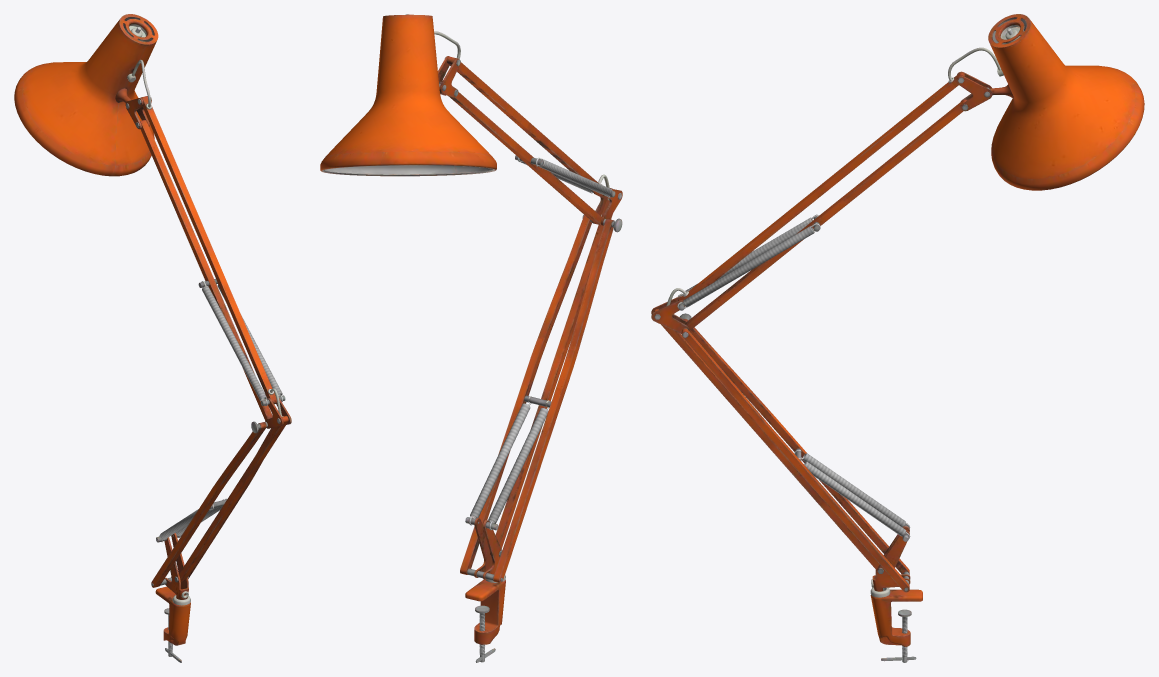
The model's file is desk_lamp_arm_01.glb.
The picture shows the model from 3 angles, left to right: view 1: azimuth 30°, elevation 25°; view 2: azimuth 150°, elevation 25°; view 3: azimuth 270°, elevation 25°; orthographic projection. The views are drawn at different scales.
Parts seen in each view (by area): view 1: desk_lamp_arm_01; view 2: desk_lamp_arm_01; view 3: desk_lamp_arm_01.
Boxes of the visible parts, x1=… form: desk_lamp_arm_01: x1=14, y1=14, x2=291, y2=662; desk_lamp_arm_01: x1=320, y1=14, x2=622, y2=662; desk_lamp_arm_01: x1=651, y1=14, x2=1144, y2=662.
Size of the model in its own units: 0.2017 by 0.8926 by 0.6139.
Materials: 2 (2 with a texture image).
